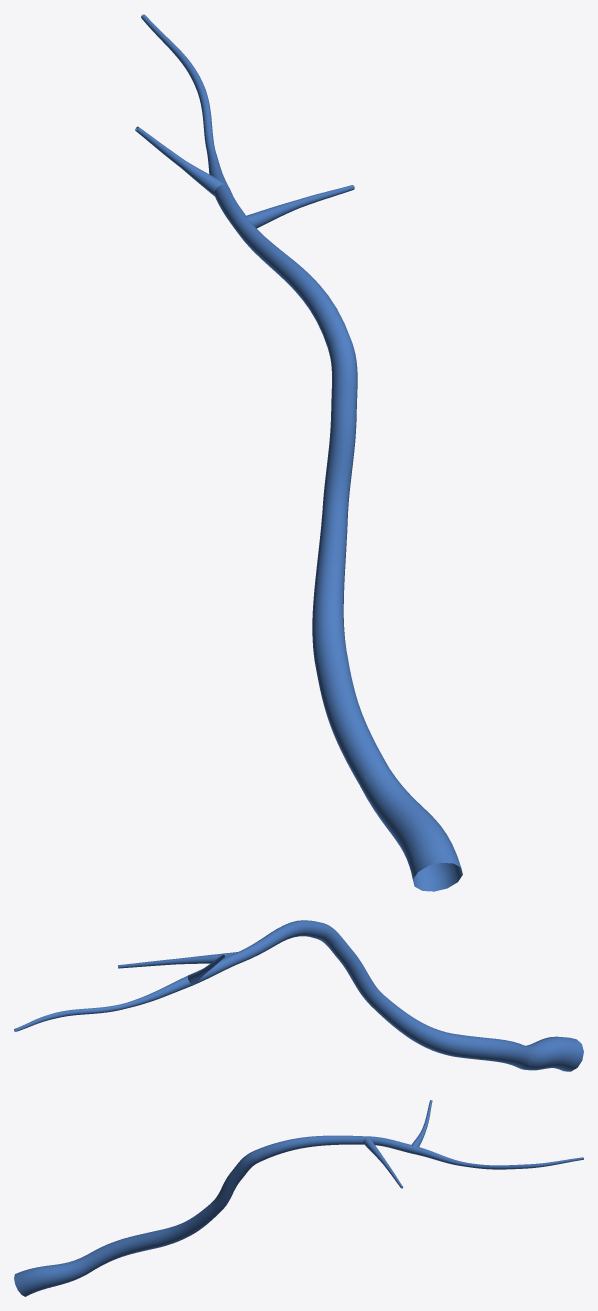
3 renders of one model, top to bottom at view 1: azimuth 30°, elevation 25°; view 2: azimuth 150°, elevation 25°; view 3: azimuth 270°, elevation 25°, orthographic. The views are drawn at different scales.
Parts seen in each view (by area): view 1: 左侧臀下静脉; view 2: 左侧臀下静脉; view 3: 左侧臀下静脉.
Part boxes in pixels (box(x1,y1,x2,y2)): 左侧臀下静脉: box(135, 14, 462, 891); 左侧臀下静脉: box(14, 920, 583, 1071); 左侧臀下静脉: box(14, 1100, 583, 1296).
Size of the model in its own units: 0.0629 by 0.0838 by 0.1953.
